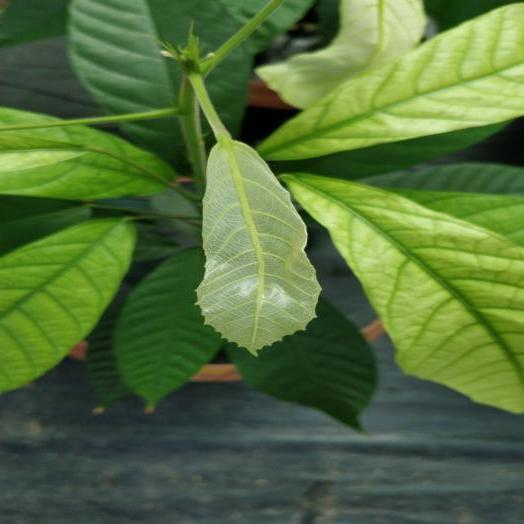Healthy Leaf: (231, 296, 377, 437), (66, 0, 243, 116), (109, 246, 223, 412)
Iron: (282, 174, 523, 412), (258, 3, 523, 160), (197, 137, 323, 357), (0, 219, 135, 392), (257, 0, 425, 108), (0, 108, 174, 199)
